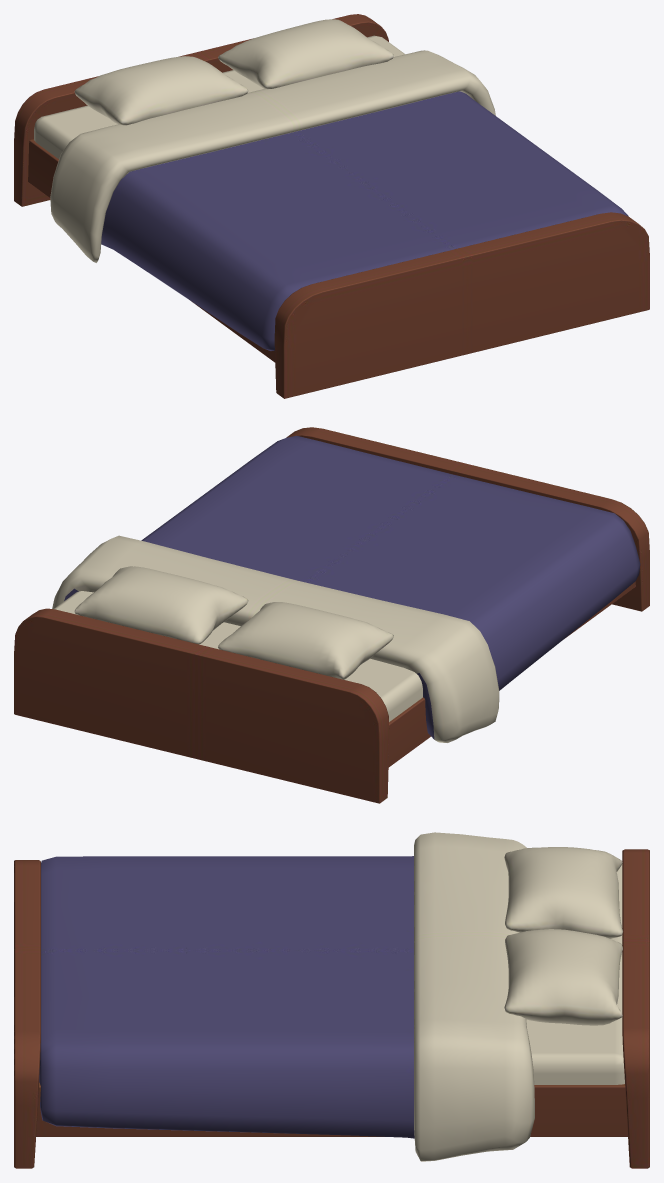
The model's file is TwinBed.glb.
3 views of the same model, one above another, from view 1: azimuth 30°, elevation 25°; view 2: azimuth 150°, elevation 25°; view 3: azimuth 270°, elevation 25° (orthographic). The views are drawn at different scales.
Parts seen in each view (by area): view 1: TwinBed; view 2: TwinBed; view 3: TwinBed.
Part boxes in pixels (left/top/right/bottom): TwinBed: left=14, top=14, right=649, bottom=398; TwinBed: left=14, top=427, right=649, bottom=803; TwinBed: left=14, top=832, right=649, bottom=1168.
Bounding box in the file's own units: 1.87 × 0.5844 × 2.14.
1 material, 1 textured.
